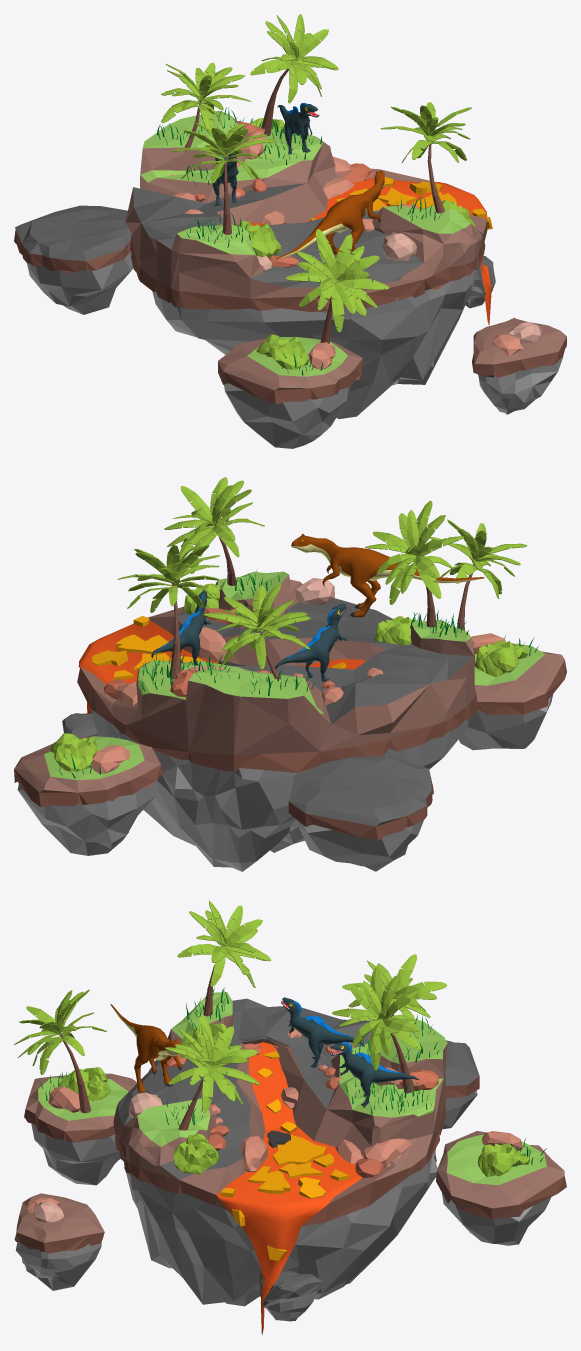
File: land_14.fbx
The picture shows the model from 3 angles, top to bottom: view 1: azimuth 30°, elevation 25°; view 2: azimuth 150°, elevation 25°; view 3: azimuth 270°, elevation 25°; orthographic projection. The views are drawn at different scales.
Visible parts, largest first — view 1: land_14.056, land_14.074, land_14.079, land_14.075, land_14.066, land_14.011, land_14.020, land_14.033, land_14.015, land_14.016, land_14.057, land_14.068 (+6 smaller); view 2: land_14.056, land_14.079, land_14.069, land_14.074, land_14.033, land_14.016, land_14.020, land_14.011, land_14.015, land_14.057, land_14.066, land_14.019 (+10 smaller); view 3: land_14.056, land_14.057, land_14.069, land_14.074, land_14.075, land_14.011, land_14.016, land_14.033, land_14.066, land_14.079, land_14.059, land_14.020 (+11 smaller).
Part boxes in pixels (x1,y1,x2,y2): land_14.056: (125,110,487,418); land_14.074: (218,337,362,448); land_14.079: (14,205,133,314); land_14.075: (472,317,566,414); land_14.066: (285,229,388,343); land_14.011: (250,14,338,136); land_14.020: (161,62,251,170); land_14.033: (171,122,276,234); land_14.015: (275,170,384,263); land_14.016: (380,102,471,213); land_14.057: (236,178,491,325); land_14.068: (256,334,309,369); land_14.056: (77,571,477,871); land_14.079: (288,756,433,871); land_14.069: (14,736,163,855); land_14.074: (458,643,566,750); land_14.033: (365,500,464,627); land_14.016: (164,477,264,585); land_14.020: (203,583,310,679); land_14.011: (117,543,220,679); land_14.015: (291,534,484,617); land_14.057: (78,620,366,713); land_14.066: (429,519,527,630); land_14.019: (275,603,346,681); land_14.056: (113,992,447,1306); land_14.057: (216,1042,362,1335); land_14.069: (435,1131,566,1245); land_14.074: (24,1073,137,1185); land_14.075: (14,1193,104,1290); land_14.011: (332,967,421,1093); land_14.016: (165,1014,260,1130); land_14.033: (177,900,271,1016); land_14.066: (14,989,107,1113); land_14.079: (442,1040,479,1129); land_14.059: (259,1270,323,1321); land_14.020: (342,954,446,1038).
Size of the model in its own units: 20.82 by 17.02 by 25.1.
